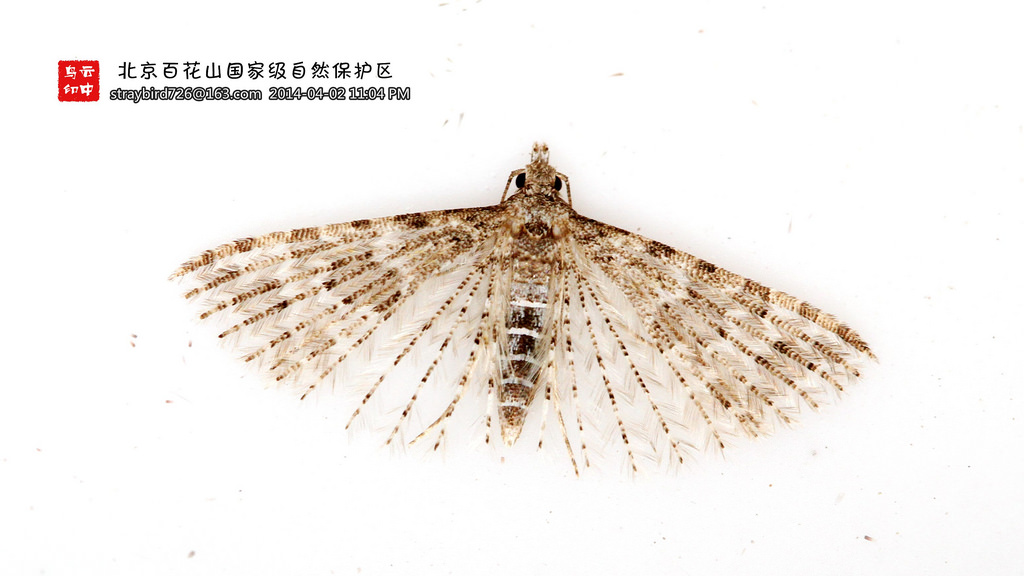Alucitidae: (177, 123, 920, 492)
moth: (175, 121, 918, 490)
